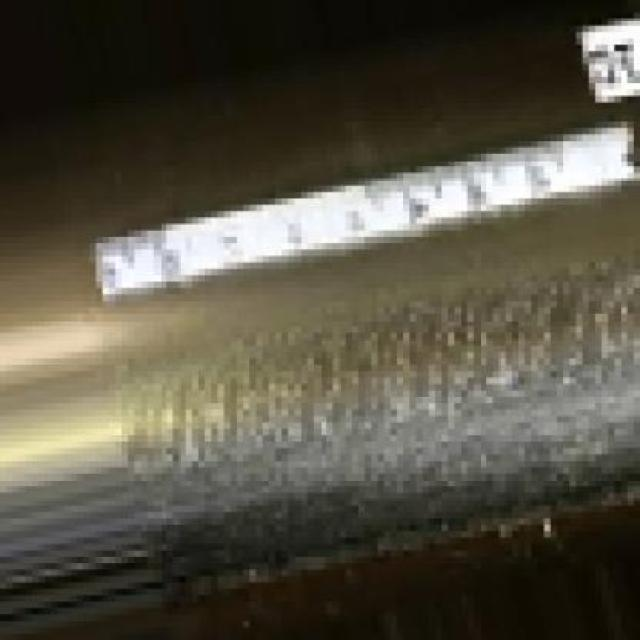defective: (0, 81, 640, 628)
